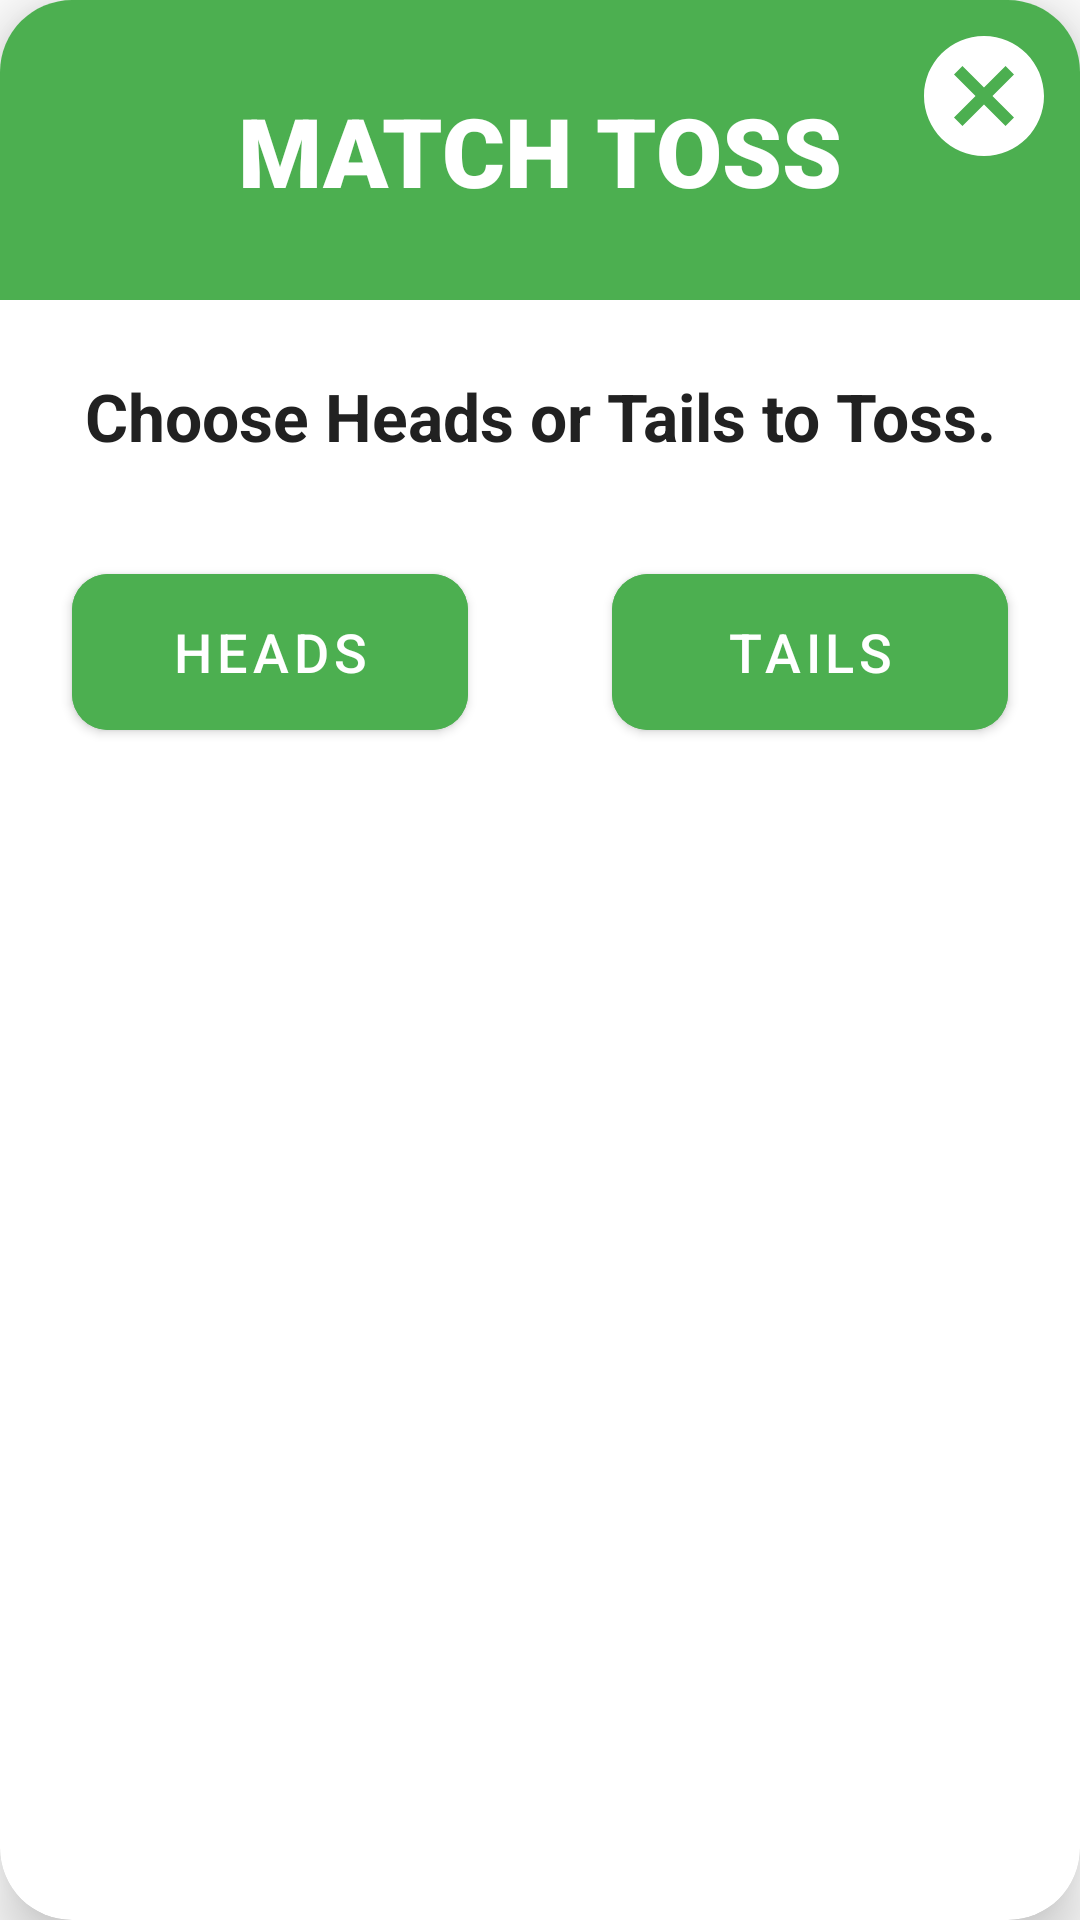

Icon bounding boxes for this 1080px×1920px phone screenshot, format (x1, y1, x2, y2):
cancel: (924, 36, 1044, 156)
